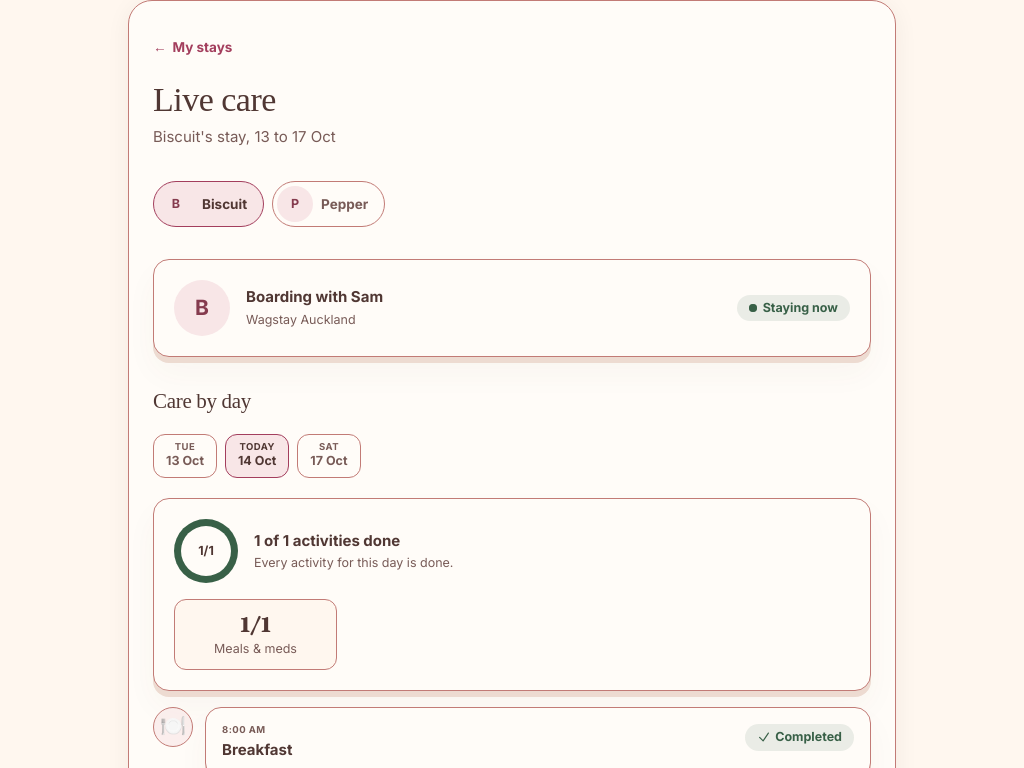
Test: LiveCareDashboardPage › keeps the pet picked last when the answers arrive out of order
This screenshot has width=1024, height=768.
Click the link "P Pepper" at (329, 204), box x1=272 y1=181 x2=385 y2=227
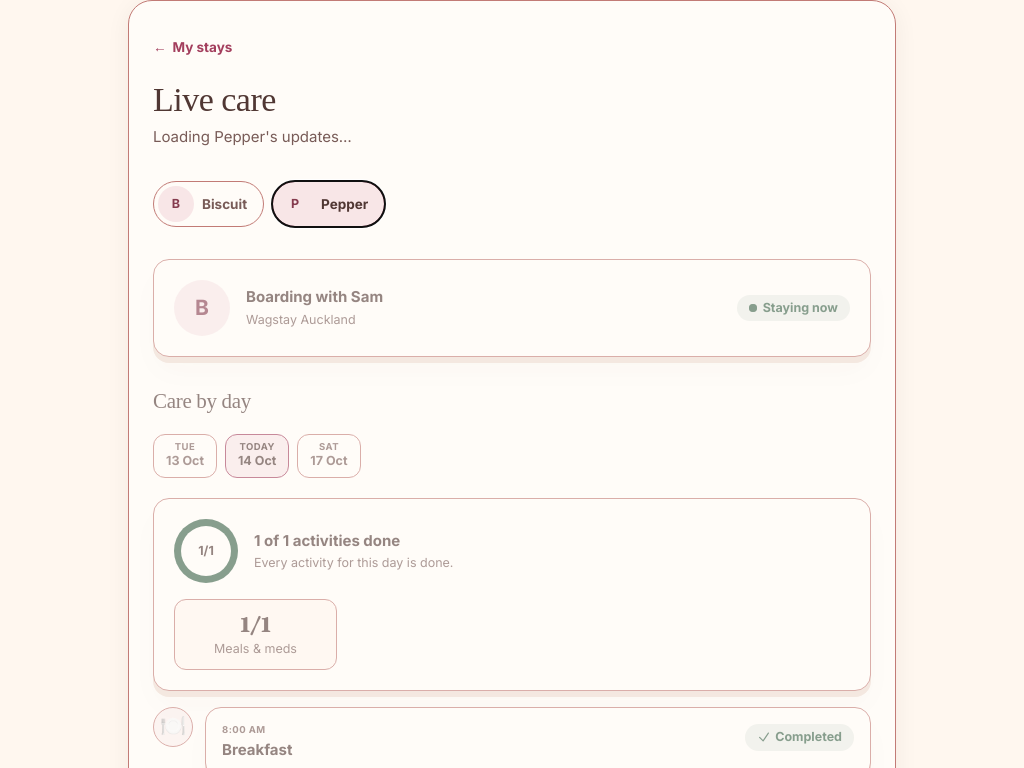
Now the message reads "Loading Pepper's updates…", box x1=153 y1=127 x2=352 y2=146
Click the link "B Biscuit" at (209, 204), box x1=153 y1=181 x2=264 y2=227
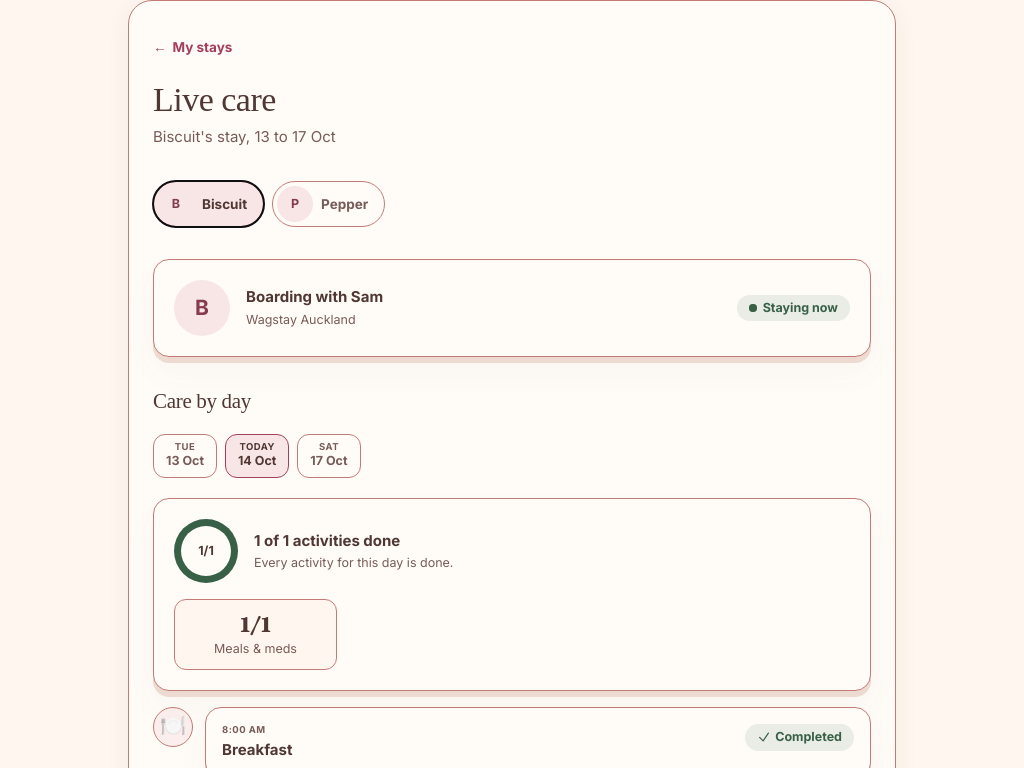
Now the text "Biscuit's stay, 13 to 17 Oct" is shown, box x1=153 y1=127 x2=336 y2=146
